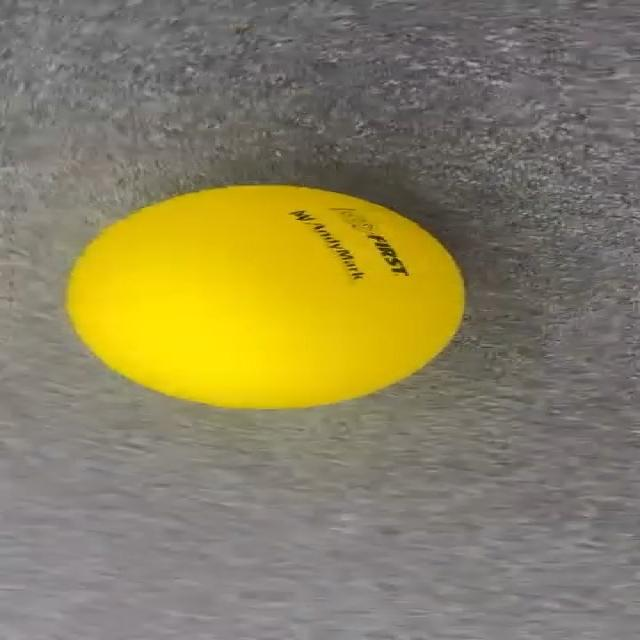Fuels: (68, 186, 460, 406)
